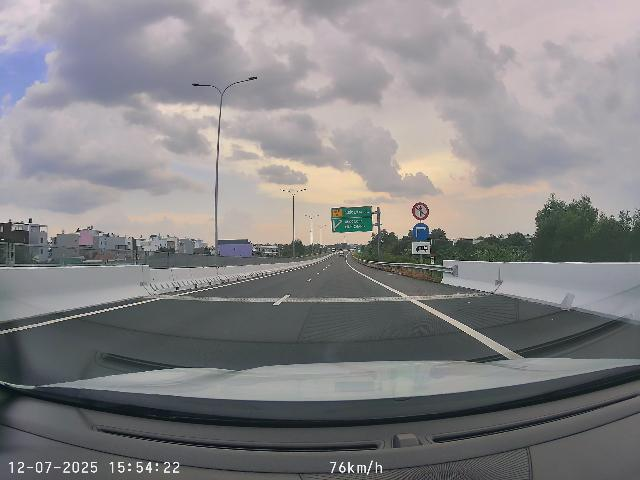136-cam-di-thang: (412, 202, 430, 221)
301d-cac-xe-chi-duoc-re-phai-2: (412, 223, 430, 241)
